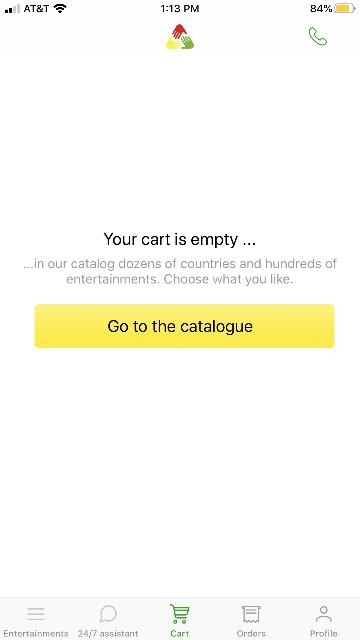Bottom_Navigation: (0, 598, 360, 640)
Icon: (170, 604, 190, 624), (309, 27, 327, 45), (241, 606, 260, 622), (316, 606, 332, 622), (100, 606, 116, 622), (28, 608, 44, 620)
Image: (166, 25, 194, 49)
Text: (24, 258, 336, 286), (103, 232, 255, 248), (108, 320, 252, 334), (78, 630, 138, 638), (4, 630, 68, 636), (237, 630, 265, 636), (311, 630, 337, 636), (172, 630, 188, 636)
TextButton: (34, 304, 334, 348)
TextImageButton: (78, 605, 138, 637), (4, 608, 68, 636), (237, 606, 265, 636), (311, 606, 337, 636), (170, 604, 190, 636)
Toolbar: (0, 15, 360, 56)
UpperTaskBar: (0, 0, 360, 14)
